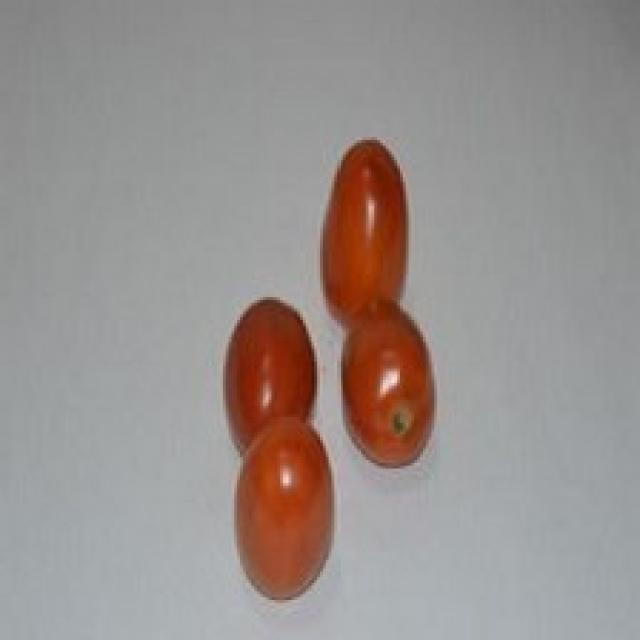tomato: (304, 144, 420, 314), (237, 412, 337, 586), (338, 298, 437, 471), (224, 295, 322, 462)
